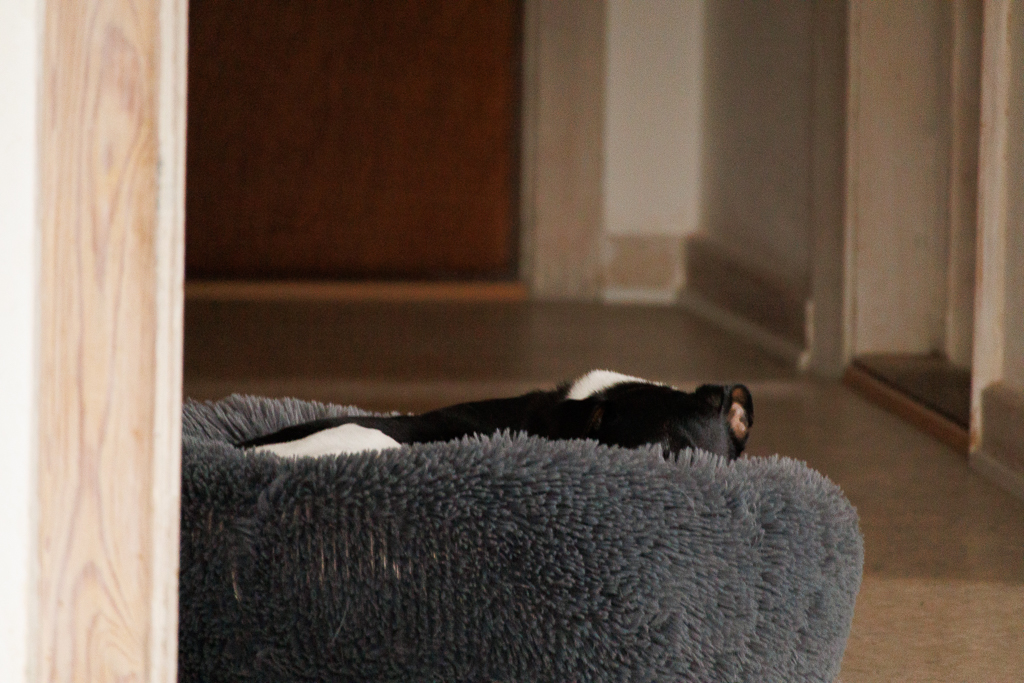Dog: (214, 360, 769, 481)
